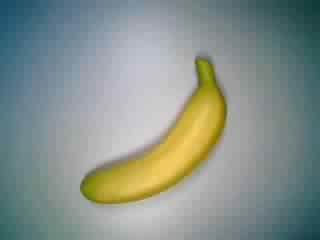banana: (78, 53, 232, 213)
